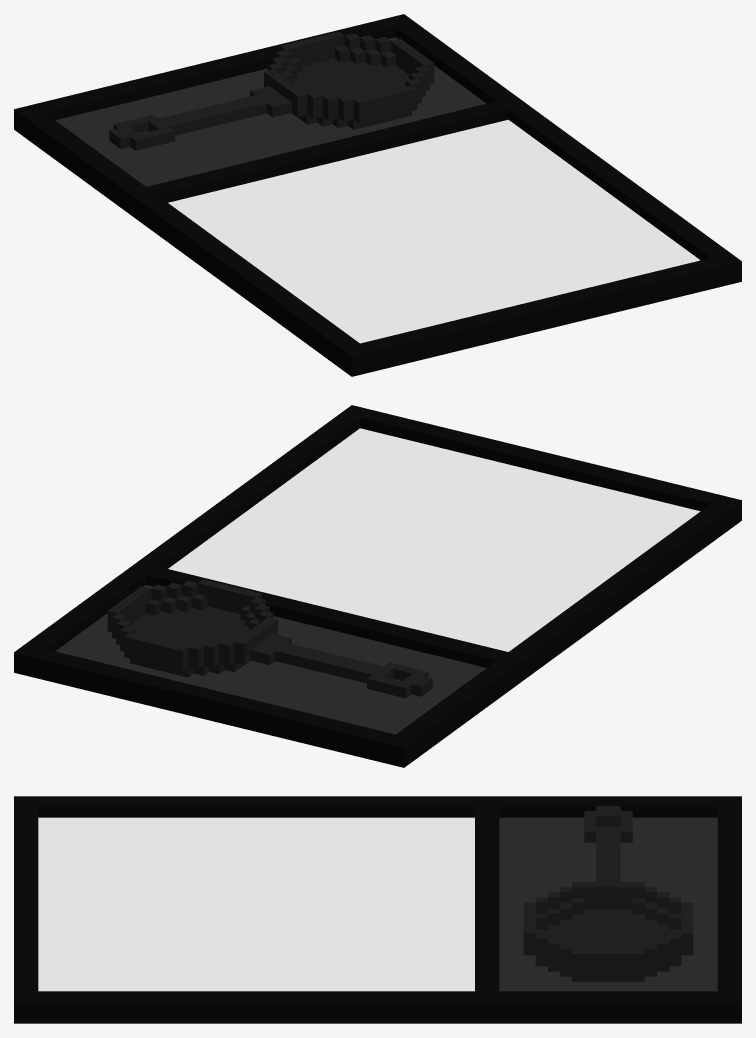
File: tile34.obj
3 views of the same model, one above another, from view 1: azimuth 30°, elevation 25°; view 2: azimuth 150°, elevation 25°; view 3: azimuth 270°, elevation 25° (orthographic). The views are drawn at different scales.
Size of the model in its own units: 4 by 0.4 by 6.
1 material, 1 textured.
